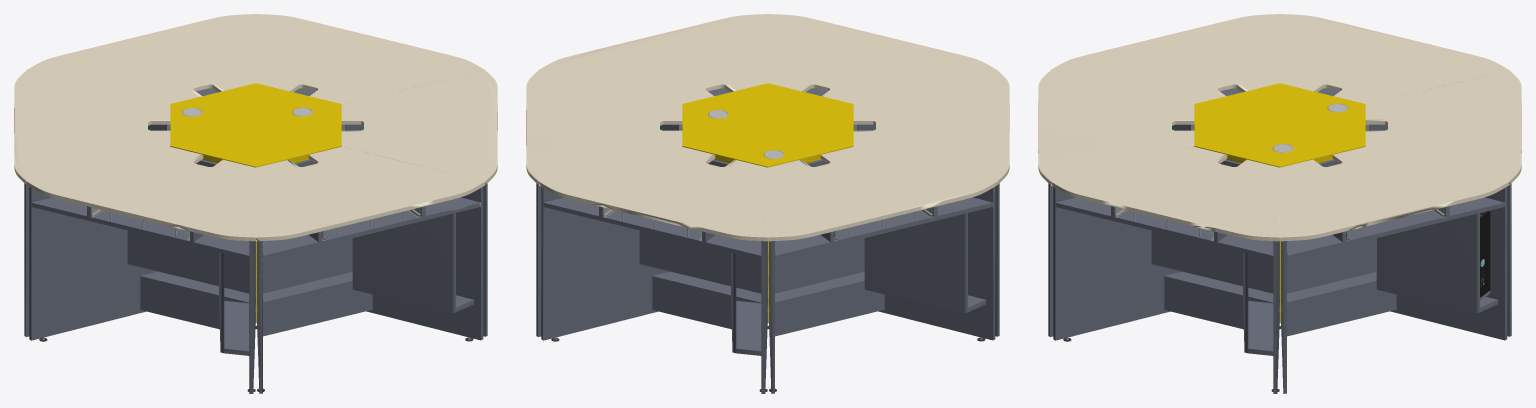
File: hex_table_scaled.glb
The picture shows the model from 3 angles, left to right: view 1: azimuth 30°, elevation 25°; view 2: azimuth 150°, elevation 25°; view 3: azimuth 270°, elevation 25°; orthographic projection.
Parts seen in each view (by area): view 1: Mesh_0; view 2: Mesh_0; view 3: Mesh_0.
Boxes of the visible parts, x1,y1,x2,y2 form: Mesh_0: [14, 14, 497, 393]; Mesh_0: [526, 14, 1009, 393]; Mesh_0: [1038, 14, 1521, 393].
Size of the model in its own units: 2.03 by 0.6809 by 1.85.
1 material, 1 textured.
